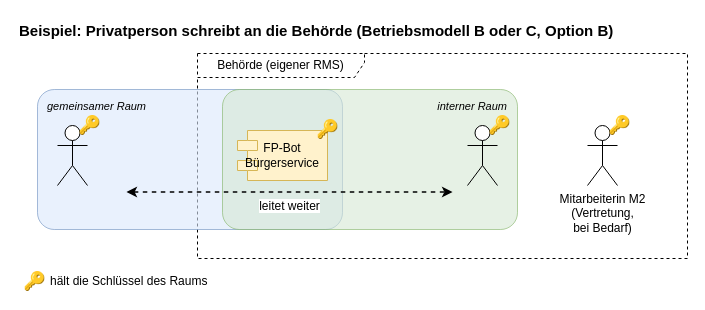
The diagram is 705 pixels wide and 310 high, and some of its shapes have lost their labels. Here are the shapes that lost their labels. From the top down, the centre of each, then its label:
(x=72, y=155): Privatperson
(x=482, y=155): Mitarbeiterin M1
